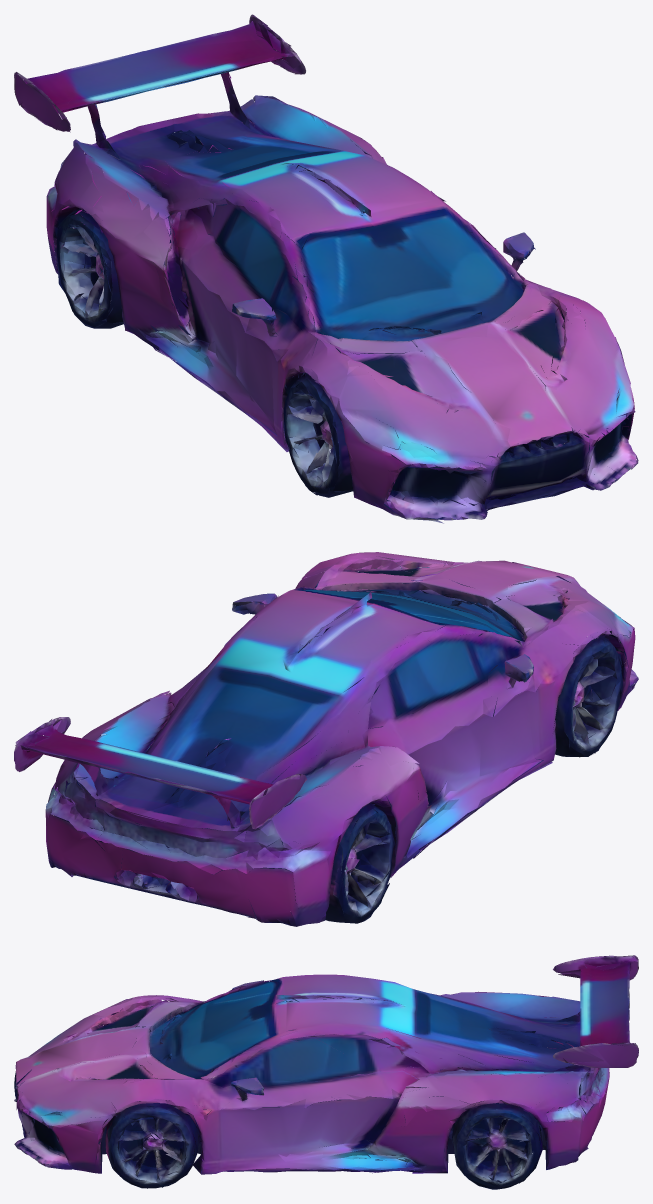
The model's file is electrichypercar_armor.glb.
3 renders of one model, top to bottom at view 1: azimuth 30°, elevation 25°; view 2: azimuth 150°, elevation 25°; view 3: azimuth 270°, elevation 25°, orthographic. The views are drawn at different scales.
Visible parts, largest first — view 1: Armor_Electric_Hypercar; view 2: Armor_Electric_Hypercar; view 3: Armor_Electric_Hypercar.
Boxes of the visible parts, bbox=[...] form: Armor_Electric_Hypercar: bbox=[14, 14, 638, 523]; Armor_Electric_Hypercar: bbox=[14, 552, 638, 926]; Armor_Electric_Hypercar: bbox=[14, 955, 638, 1189].
Bounding box in the file's own units: 0.4954 × 0.3078 × 1.2.
Materials: 1 (1 with a texture image).
